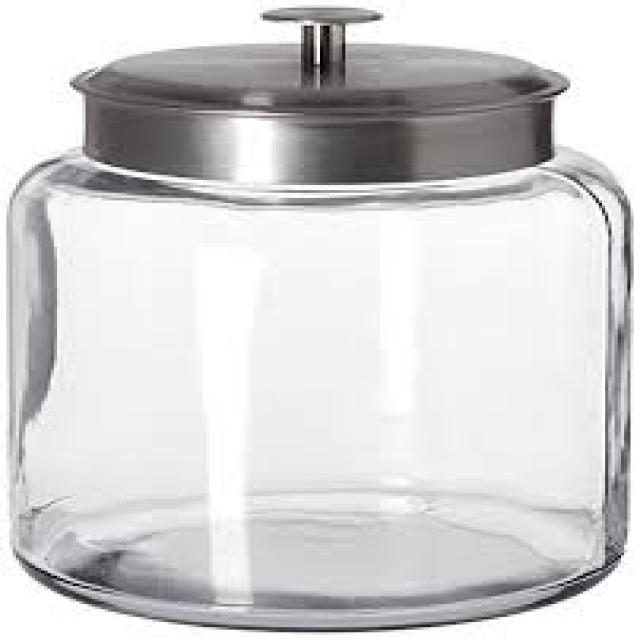glass: (7, 144, 628, 625)
metal: (67, 5, 567, 183)
